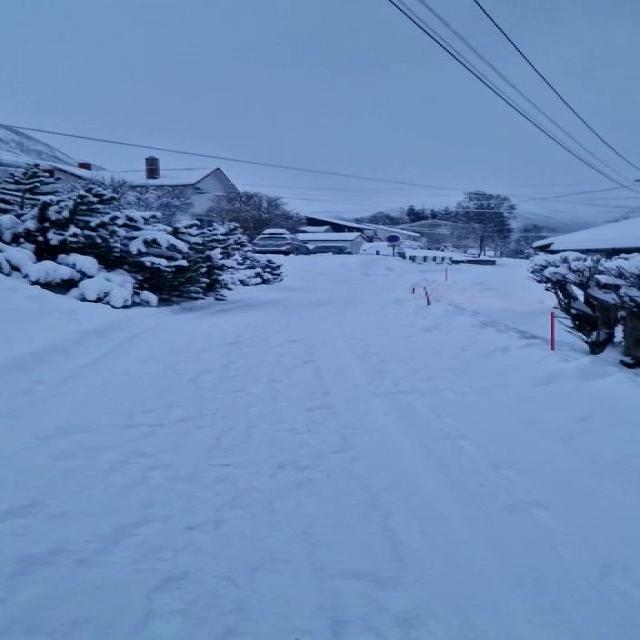path: (0, 253, 640, 640)
